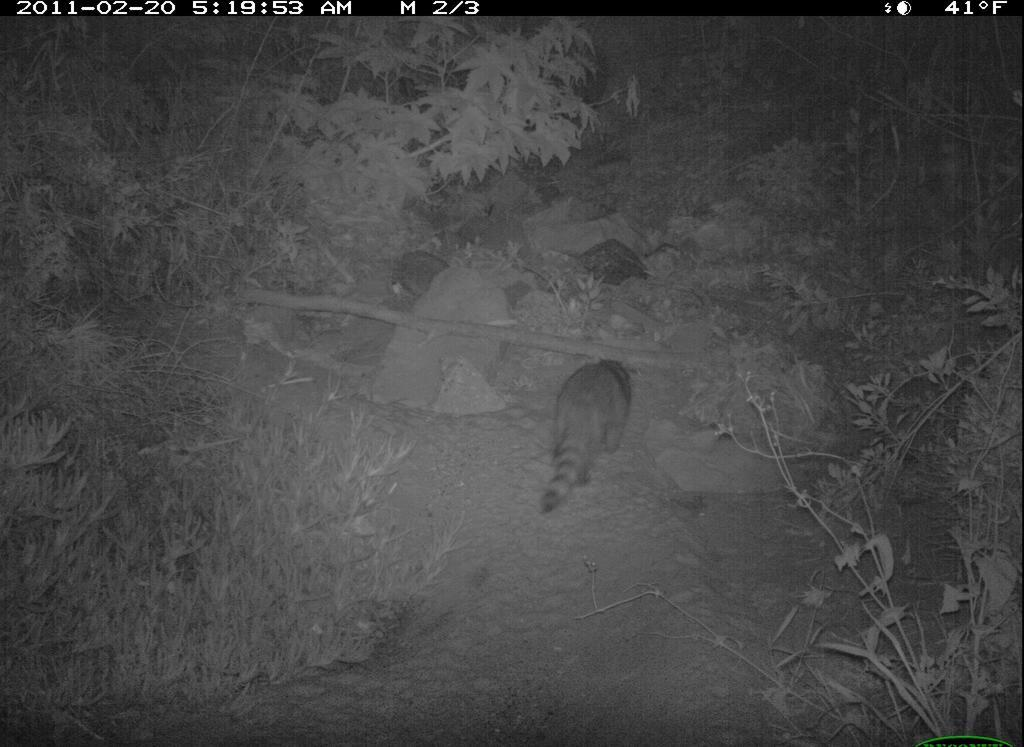raccoon: (511, 336, 658, 543)
